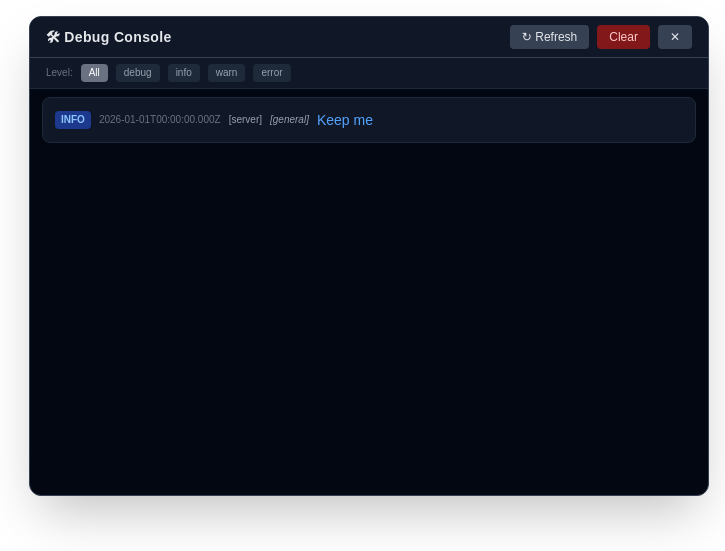
Test: DebugPanel — safe failure › keeps existing entries when the DELETE request fails
Expected: the text "Keep me" is shown, [317,112,373,128]
What coordinates should you click on to do the following:
click the button "Clear"
I would click on:
 (624, 37)
Its box is [597,25,650,49].
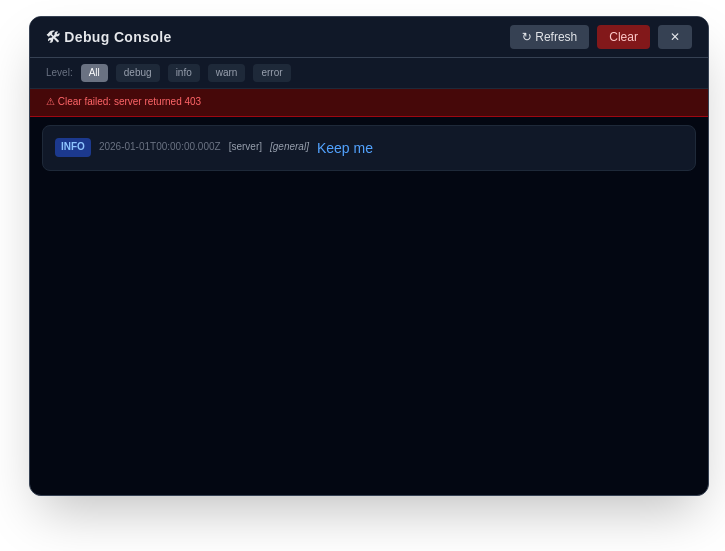
Expected: the text "Keep me" is shown, [317,140,373,156]
Result: the text "⚠ Clear failed: server returned 403" is shown at [30,89,708,117]
